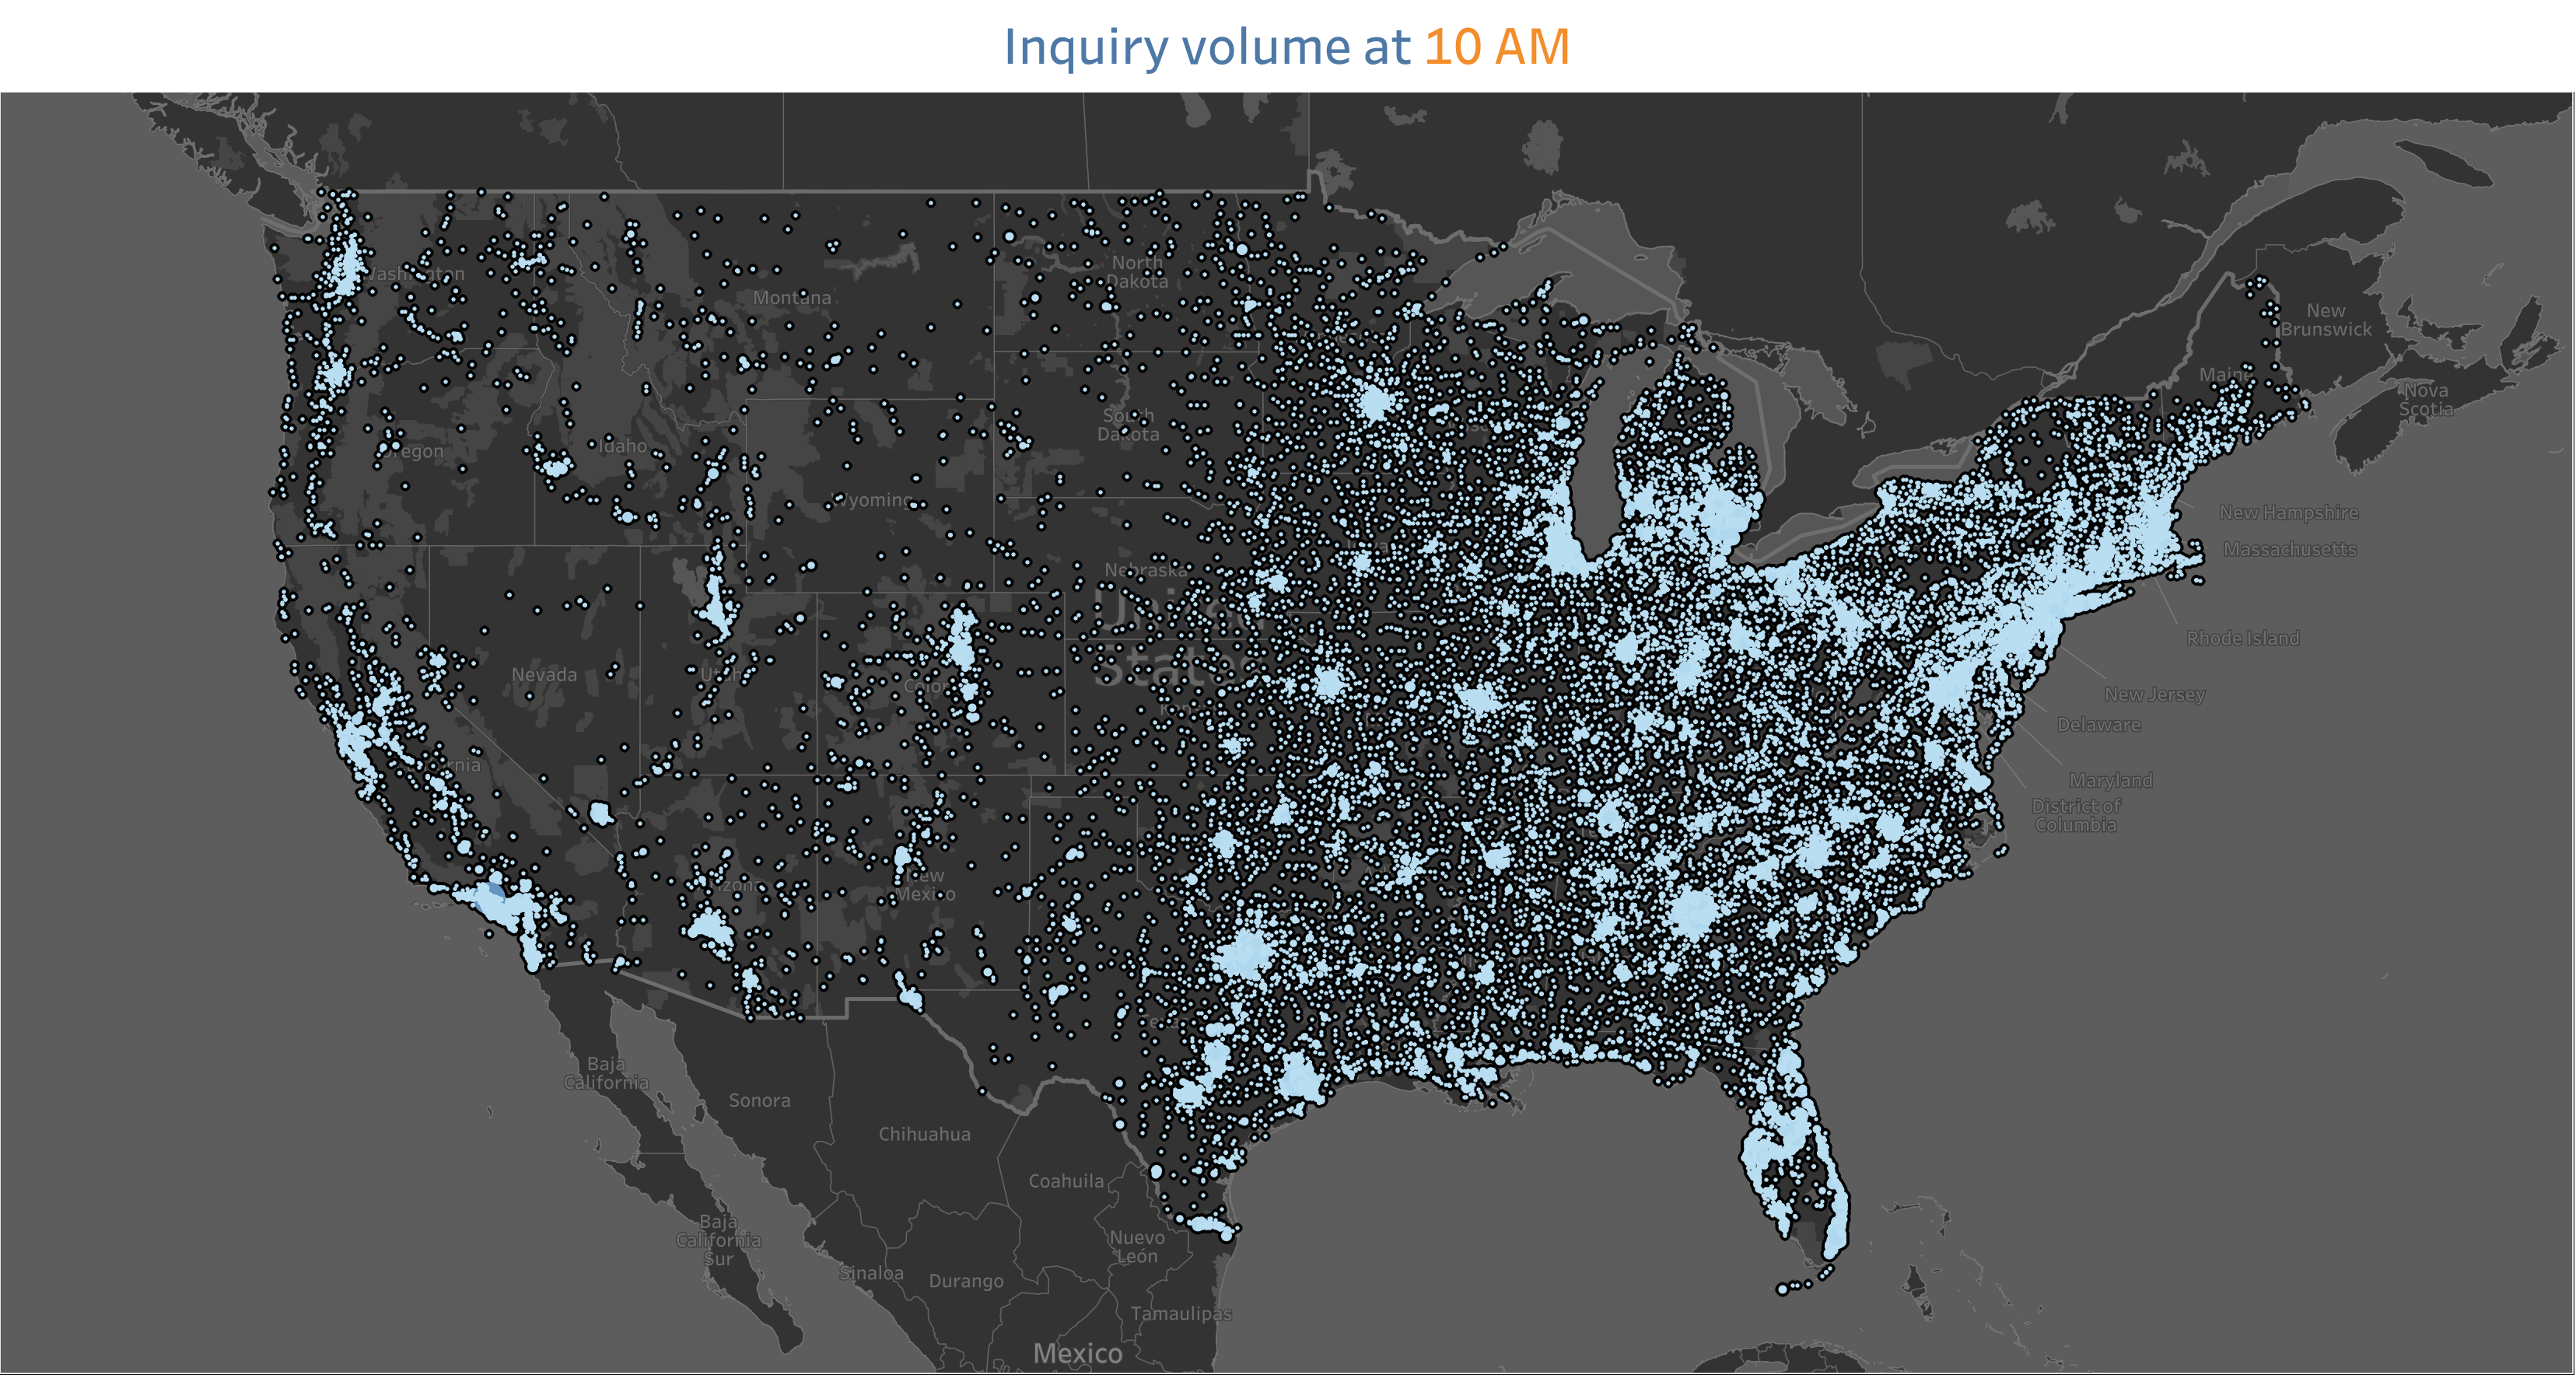

Layout of this report page (visuals, bound fields, positions):
{"tool":"tableau","page":{"name":"Dashboard 1","canvas":[1000,1000],"units":"permille","ordinal":0},"visuals":[{"type":"worksheet","title":"Sheet 1","mark":"Automatic","box":[4.7,8.8,990.6,982.3]},{"type":"currpage","title":"Sheet 1","box":[883,30.9,87.8,105]}]}

Visuals, with their boxes on the dashboard's canvas, which has no fixed pixel size, in thousandths of its width and height (x1, y1, x2, y2). These are canvas units, not pixel positions in the 2576x1375 screenshot, which may show the page scaled, cropped or inside an application window:
"Sheet 1" worksheet: [5,9,995,991]
"Sheet 1" currpage: [883,31,971,136]
